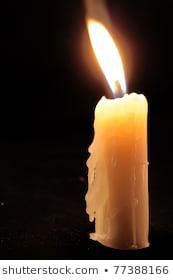fire: (82, 15, 129, 98)
